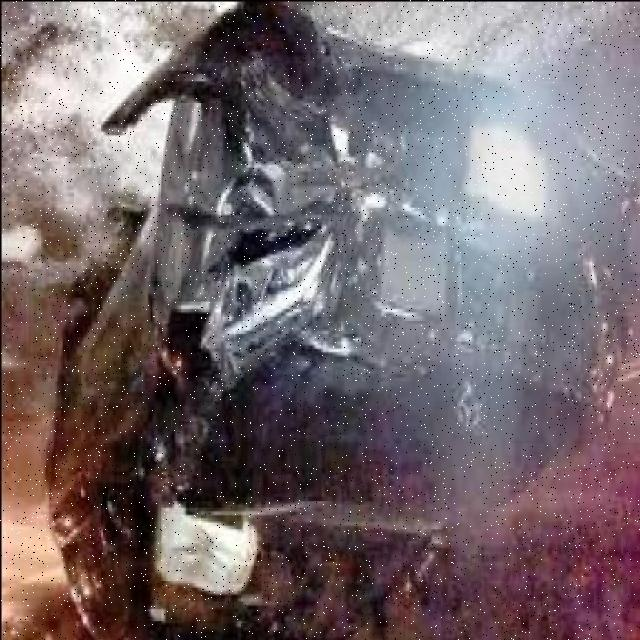damage: (104, 5, 636, 521)
